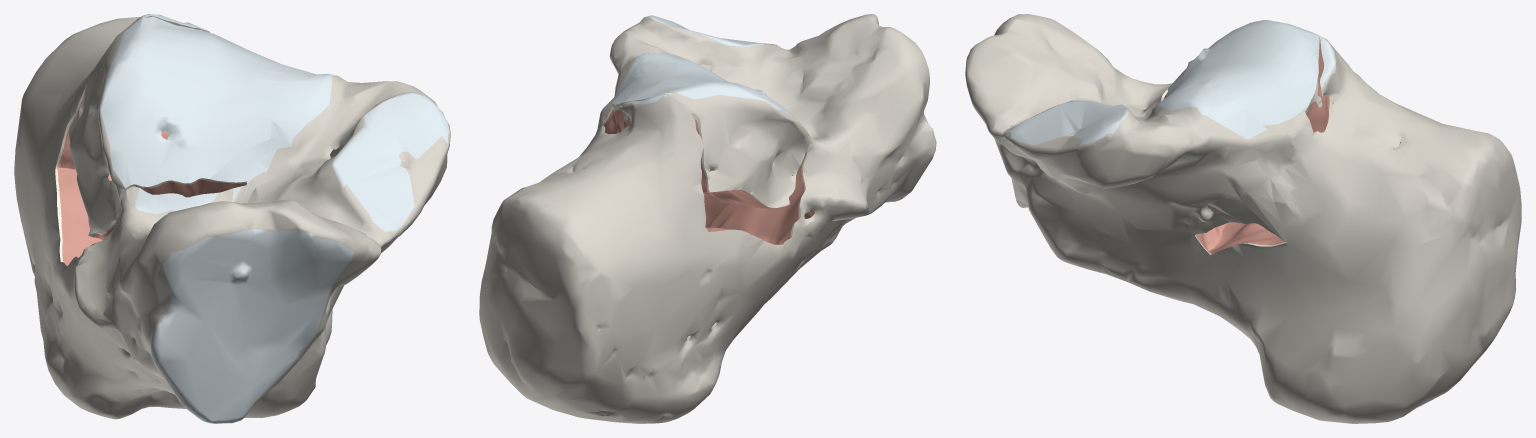
File: EL-JD_elderly.glb
3 views of the same model, side by side, from view 1: azimuth 30°, elevation 25°; view 2: azimuth 150°, elevation 25°; view 3: azimuth 270°, elevation 25° (orthographic). The views are drawn at different scales.
Parts seen in each view (by area): view 1: calcaneus: sustentacular fragment, calcaneus: tuberosity (lateral wall pushed out), calcaneus: depressed joint fragment (outer two-thirds of the; view 2: calcaneus: tuberosity (lateral wall pushed out), calcaneus: sustentacular fragment, calcaneus: depressed joint fragment (outer two-thirds of the; view 3: calcaneus: tuberosity (lateral wall pushed out), calcaneus: sustentacular fragment, calcaneus: depressed joint fragment (outer two-thirds of the.
Boxes of the visible parts, bbox=[...] form: calcaneus: sustentacular fragment: bbox=[100, 66, 450, 423]; calcaneus: tuberosity (lateral wall pushed out): bbox=[14, 14, 332, 419]; calcaneus: depressed joint fragment (outer two-thirds of the: bbox=[69, 16, 287, 239]; calcaneus: tuberosity (lateral wall pushed out): bbox=[479, 92, 867, 423]; calcaneus: sustentacular fragment: bbox=[600, 14, 936, 251]; calcaneus: depressed joint fragment (outer two-thirds of the: bbox=[600, 63, 810, 208]; calcaneus: tuberosity (lateral wall pushed out): bbox=[1102, 36, 1521, 423]; calcaneus: sustentacular fragment: bbox=[965, 14, 1293, 273]; calcaneus: depressed joint fragment (outer two-thirds of the: bbox=[1164, 20, 1329, 213].
Size of the model in its own units: 0.0475 by 0.0513 by 0.0757.
